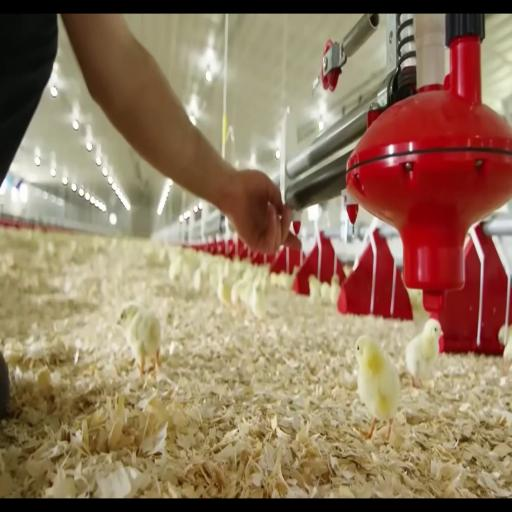chick: (356, 337, 400, 441), (118, 304, 161, 377), (406, 319, 442, 387), (498, 326, 511, 375), (249, 283, 265, 319), (217, 275, 230, 306), (168, 255, 182, 283), (231, 280, 243, 306), (330, 274, 340, 305), (309, 275, 320, 301), (498, 325, 511, 346), (192, 266, 202, 292), (321, 282, 330, 302)
